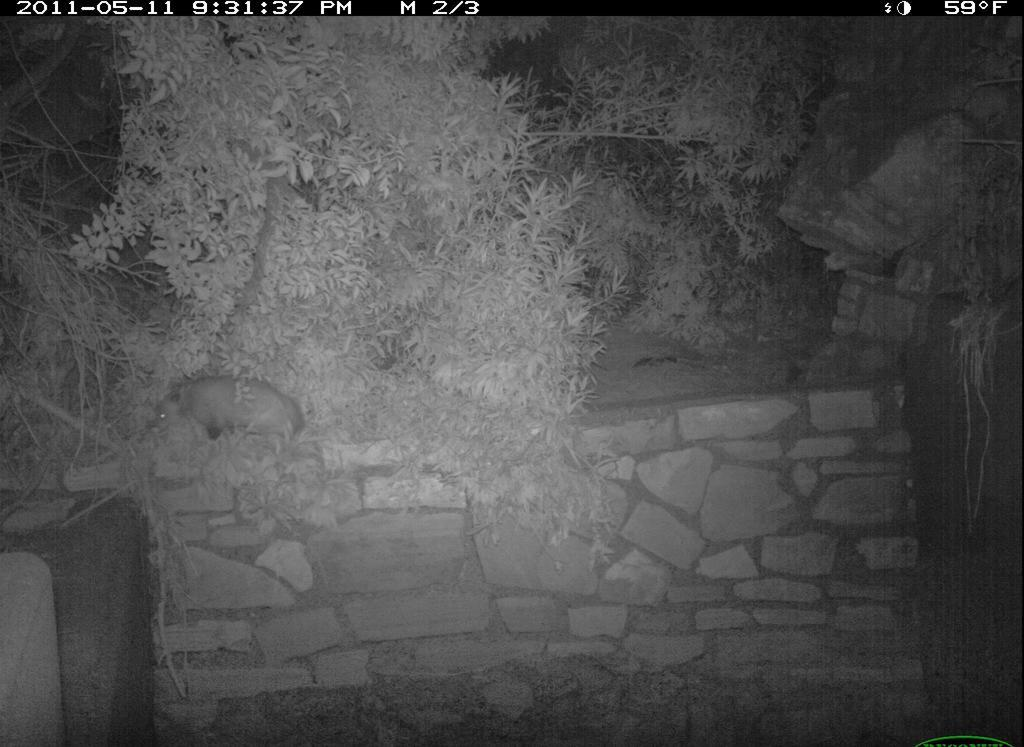opossum: (148, 373, 308, 460)
